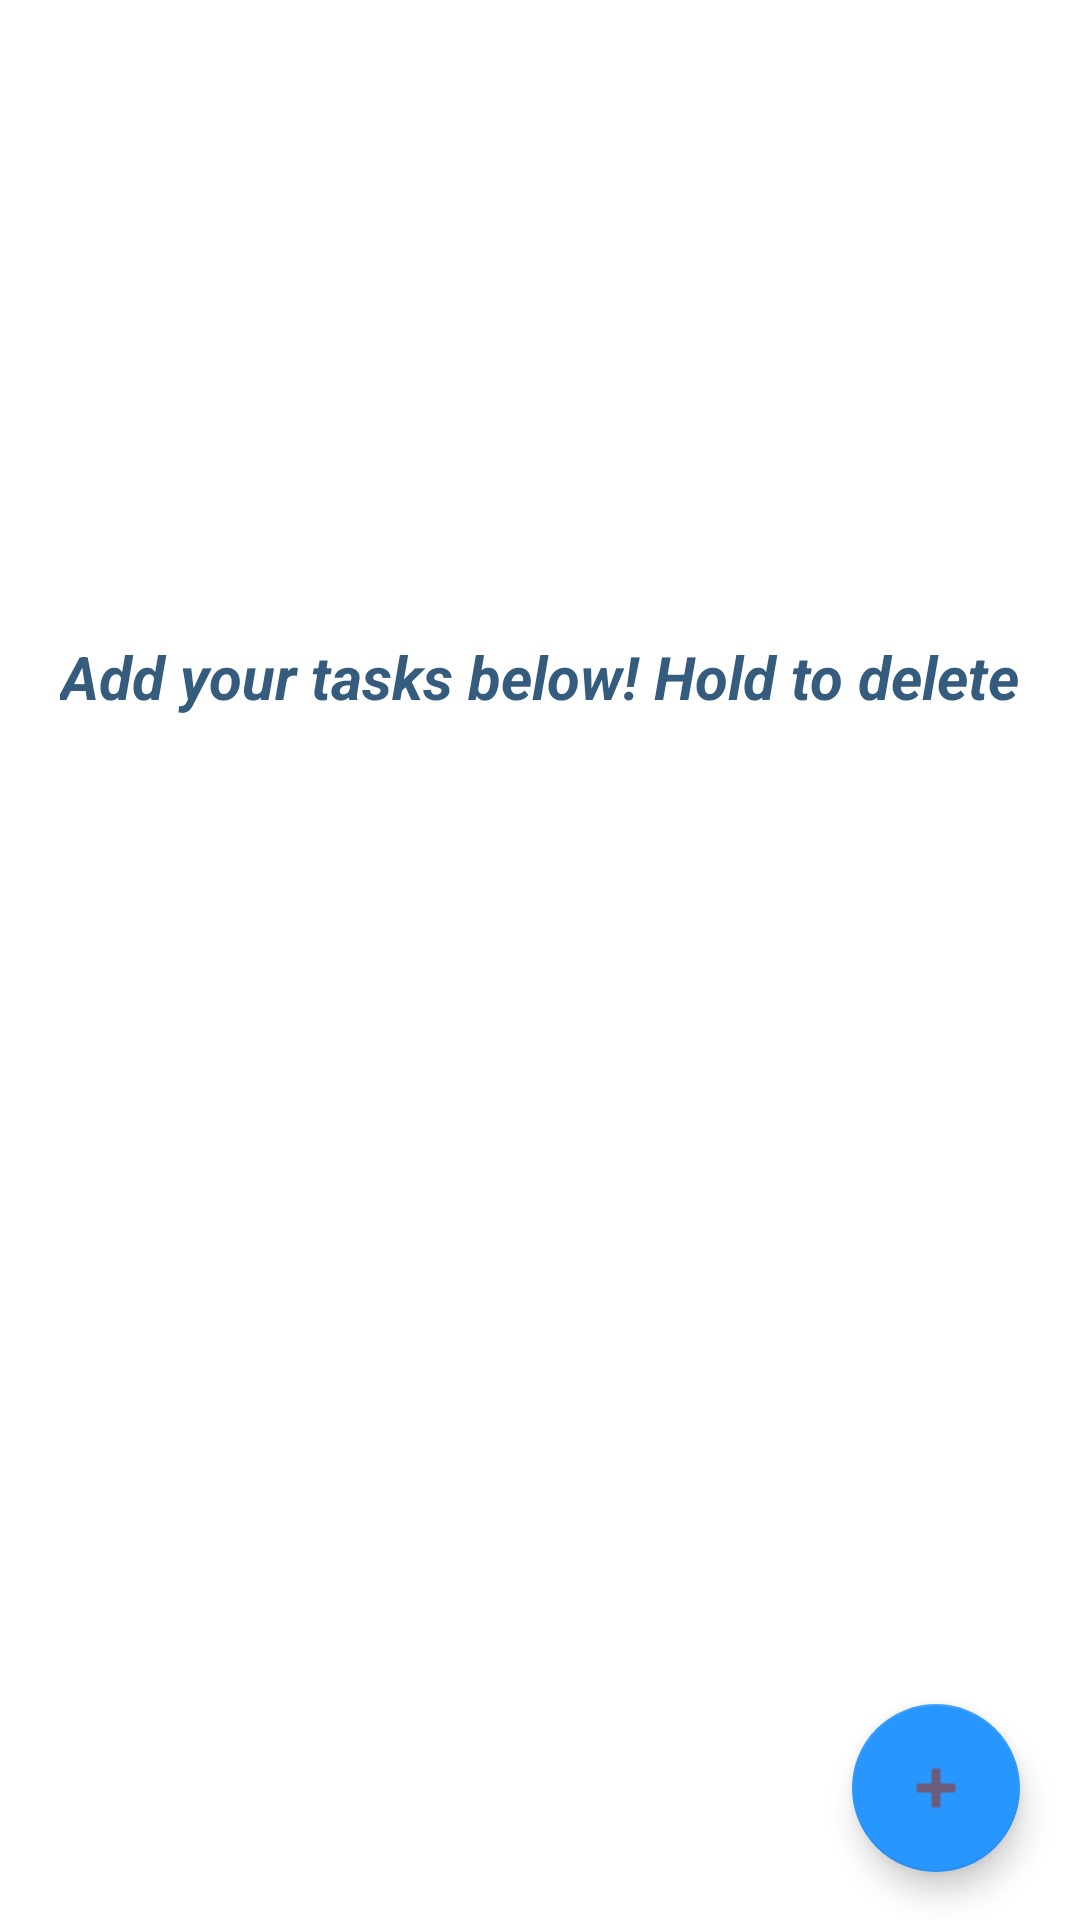

Screen size 1080px x 1920px. Icon name, then its center in pixels as [x,y]:
add: [936,1788]
